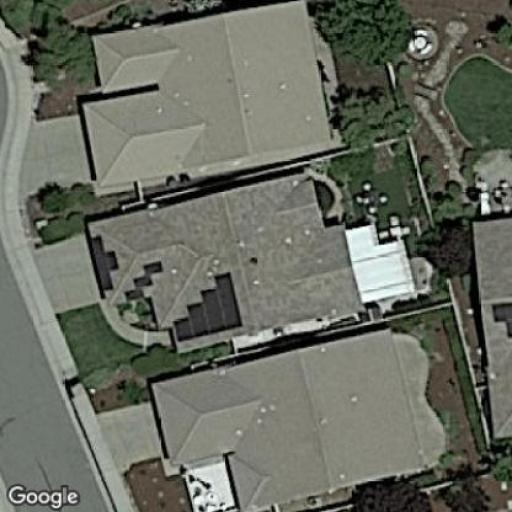solar-panel: (170, 270, 244, 344), (88, 232, 120, 294), (122, 259, 164, 303), (486, 296, 511, 344)
